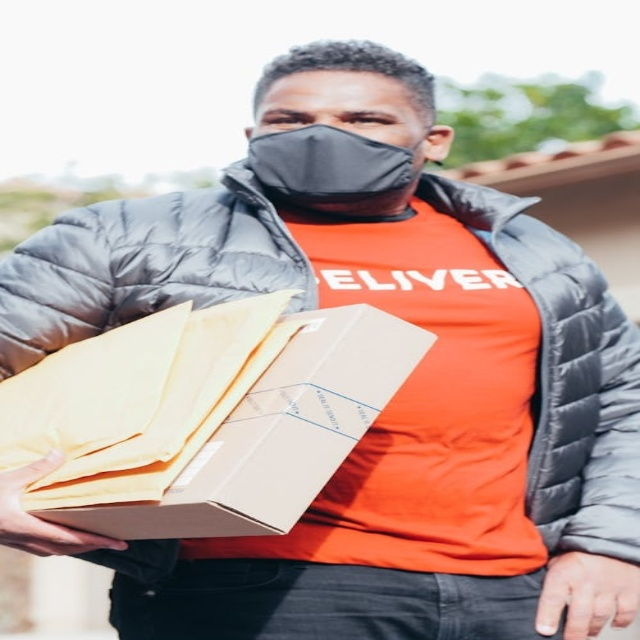Mascara: (244, 125, 418, 205)
Sin_gafas: (253, 99, 410, 130)
Sin_guantes: (0, 446, 132, 560), (522, 549, 639, 639)
